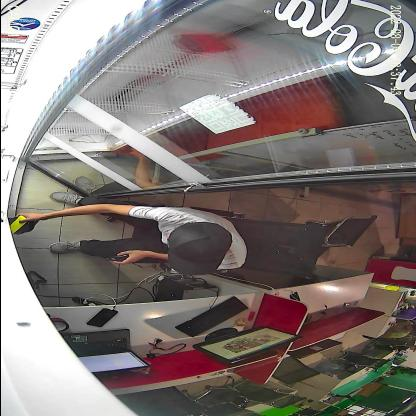yellow: (9, 215, 34, 235)
